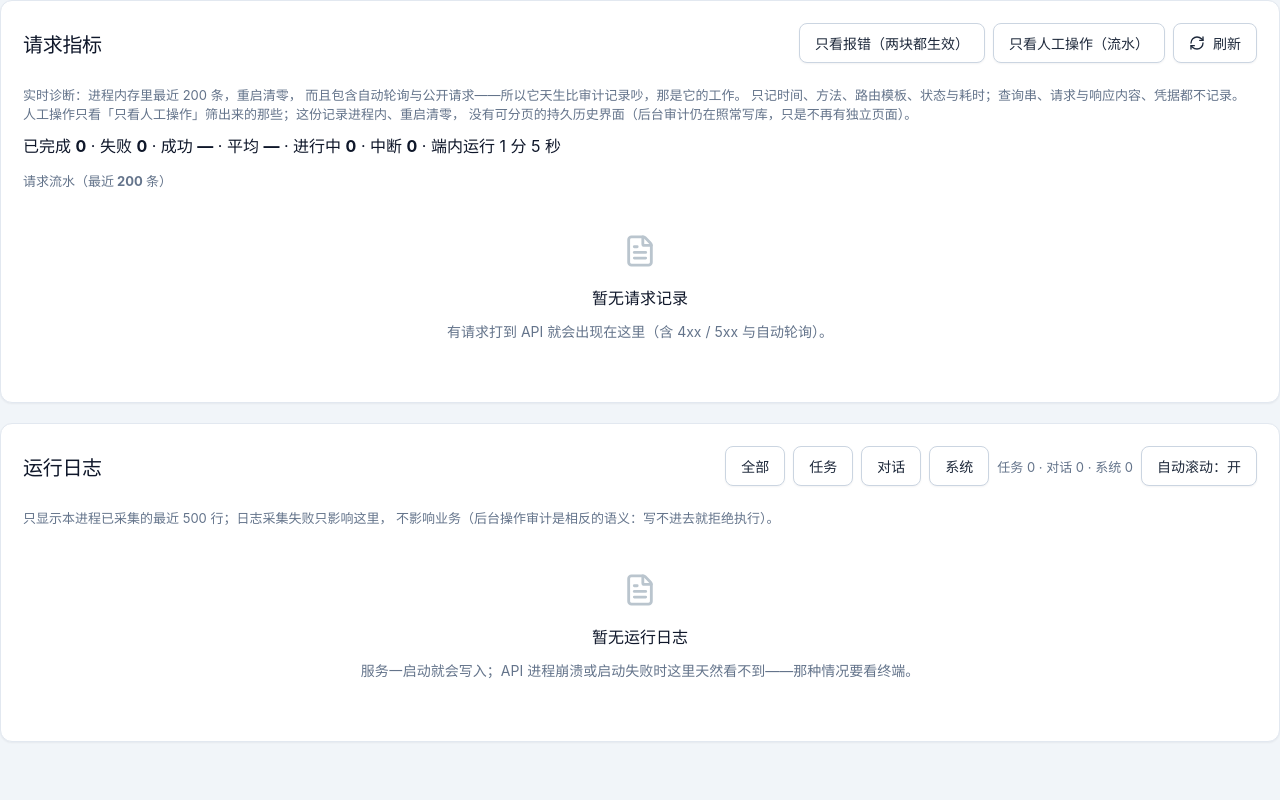
Test case: RuntimeMonitorPanel（运行监控） › 空结果文案区分「筛完为空」与「本来就没有」
Expected: the text "暂无请求记录" is shown, [592,285,688,309]
Click the button "只看报错（两块都生效）" at (892, 43), box [799,23,985,63]
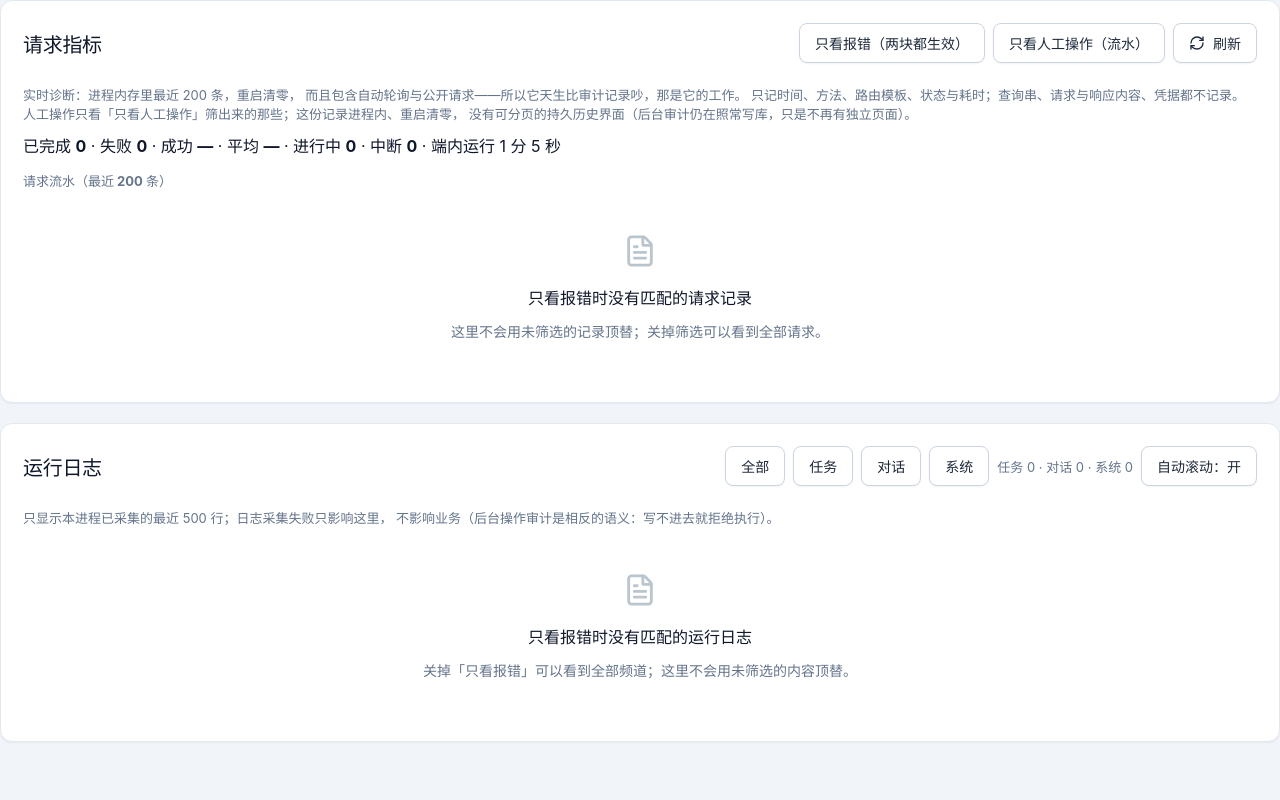
Now the text "只看报错时没有匹配的请求记录" is shown, box [528,285,752,309]
Now the text "只看报错时没有匹配的运行日志" is shown, box [528,624,752,648]
两个筛选叠加时，文案要把两个都说出来（不能只说一个）
Click the button "只看人工操作（流水）" at (1079, 43), box [993,23,1165,63]
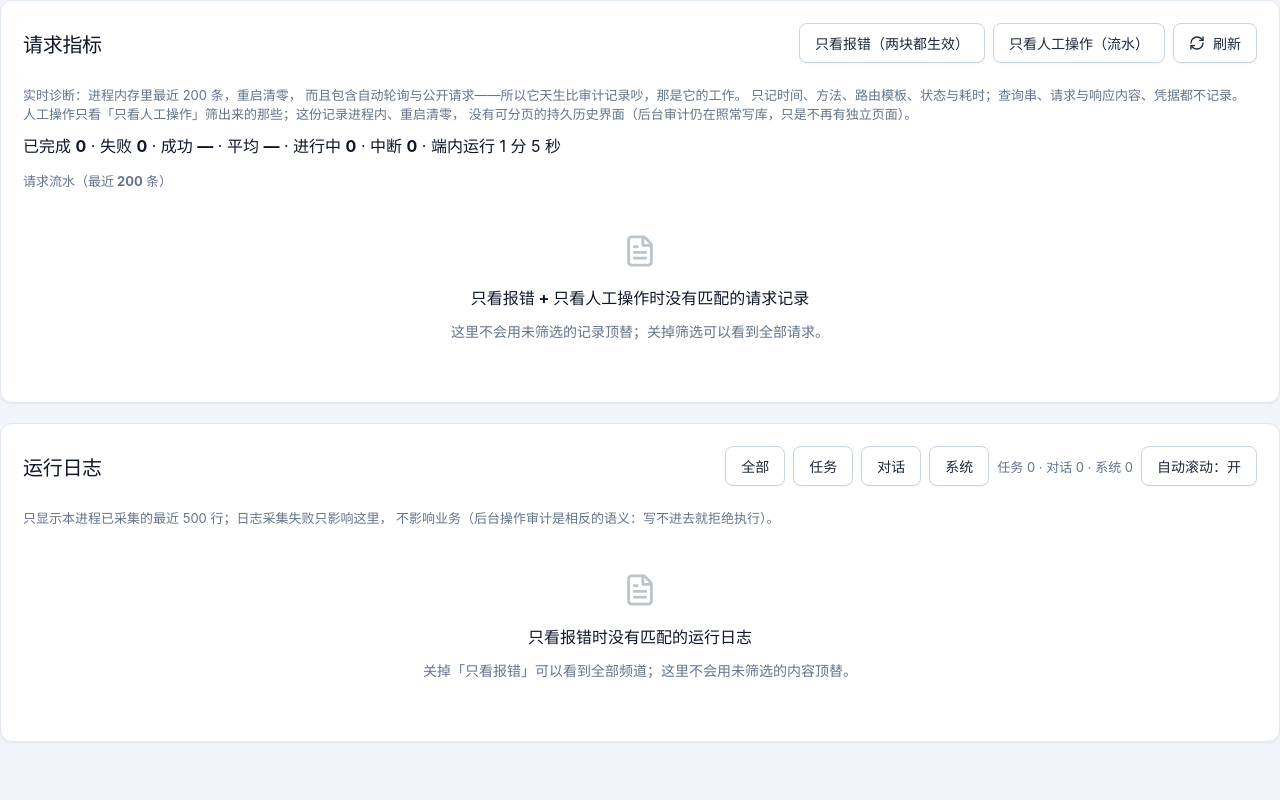
Now the text "只看报错 + 只看人工操作时没有匹配的请求记录" is shown, box [471,285,809,309]
